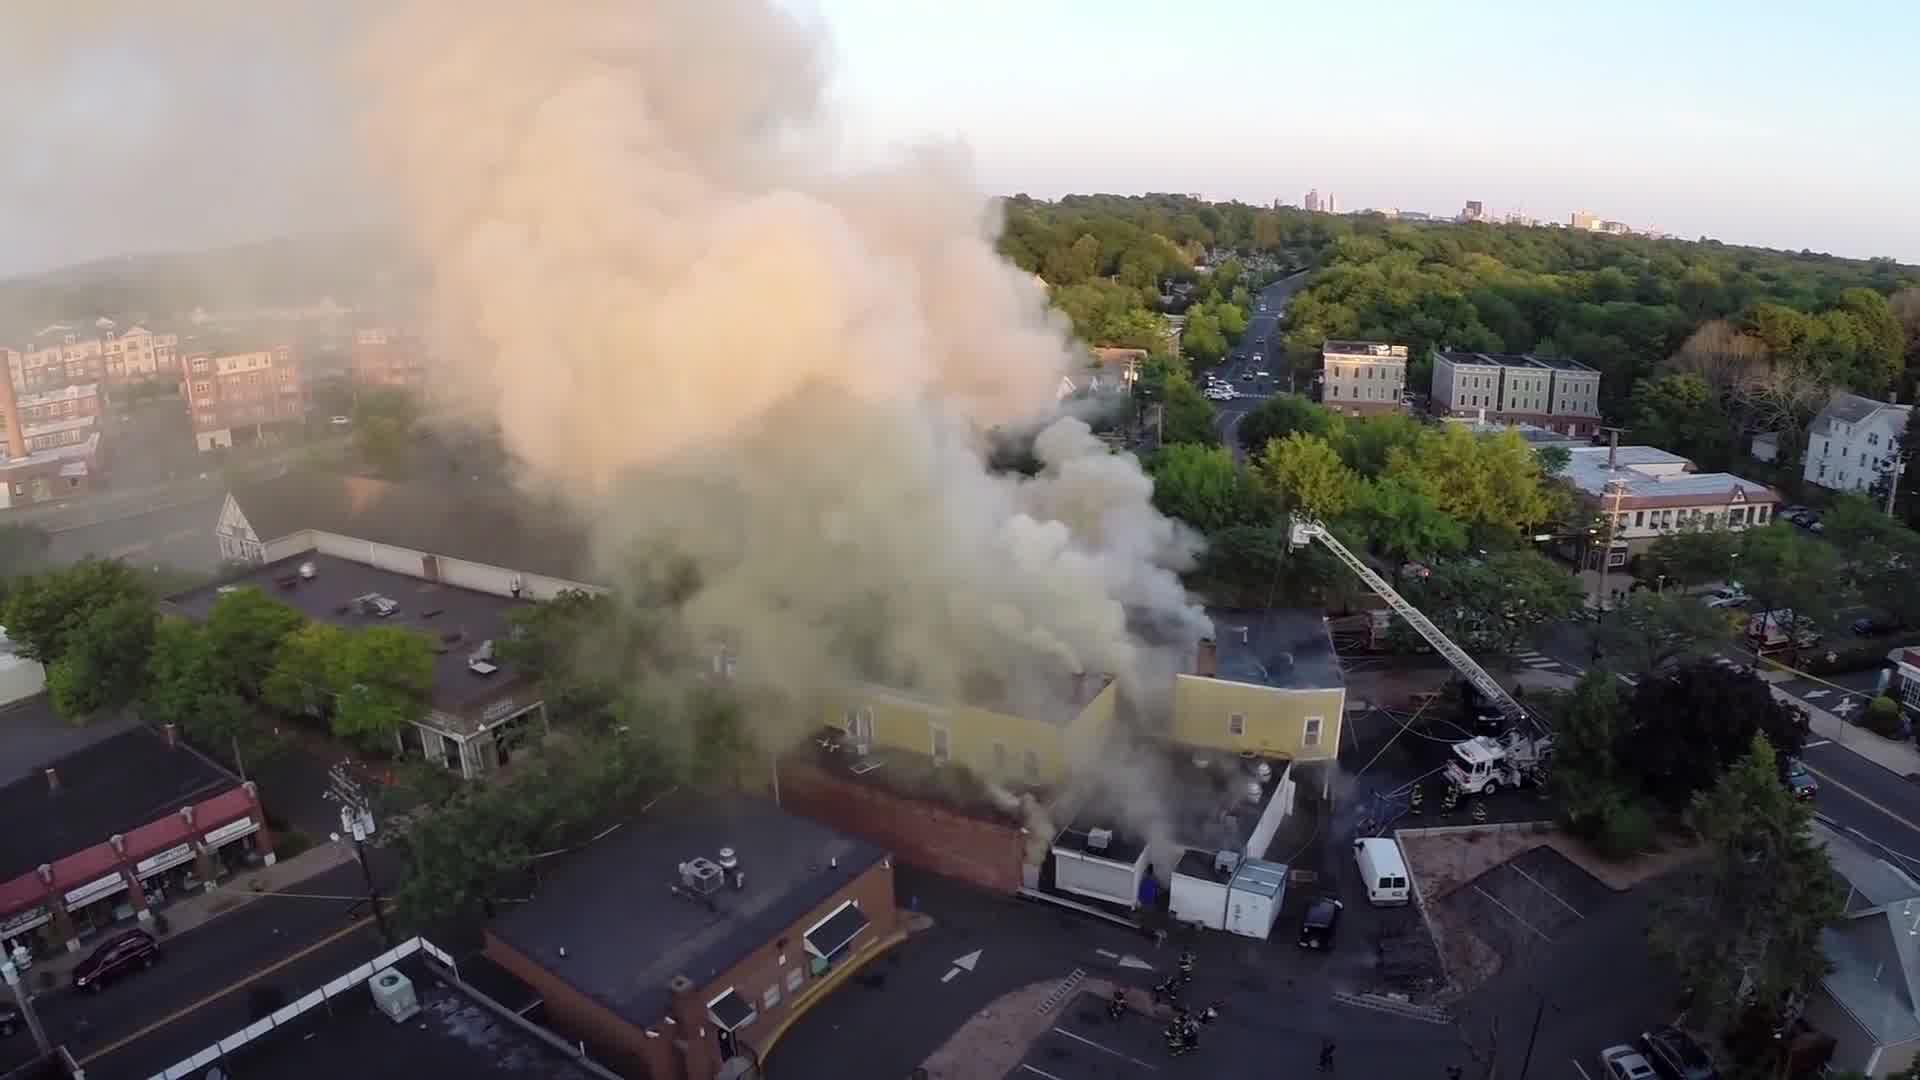smoke: (562, 384, 1154, 653), (404, 4, 823, 364)
